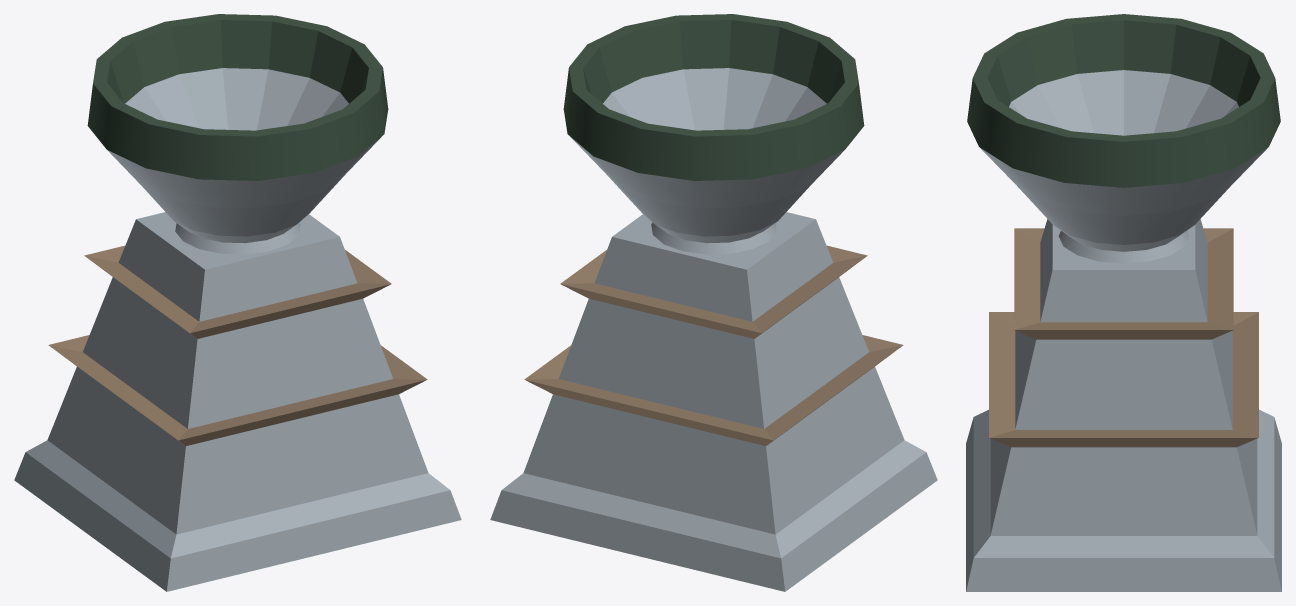
Rendered from Props.FBX.
The picture shows the model from 3 angles, left to right: view 1: azimuth 30°, elevation 25°; view 2: azimuth 150°, elevation 25°; view 3: azimuth 270°, elevation 25°; orthographic projection. The views are drawn at different scales.
Visible parts, largest first — view 1: Props; view 2: Props; view 3: Props.
Part boxes in pixels (x1,y1,x2,y2): Props: (14, 14, 461, 591); Props: (490, 14, 937, 591); Props: (966, 14, 1281, 591).
Bounding box in the file's own units: 8.99 × 12.37 × 8.05.
Materials: 1 (1 with a texture image).
